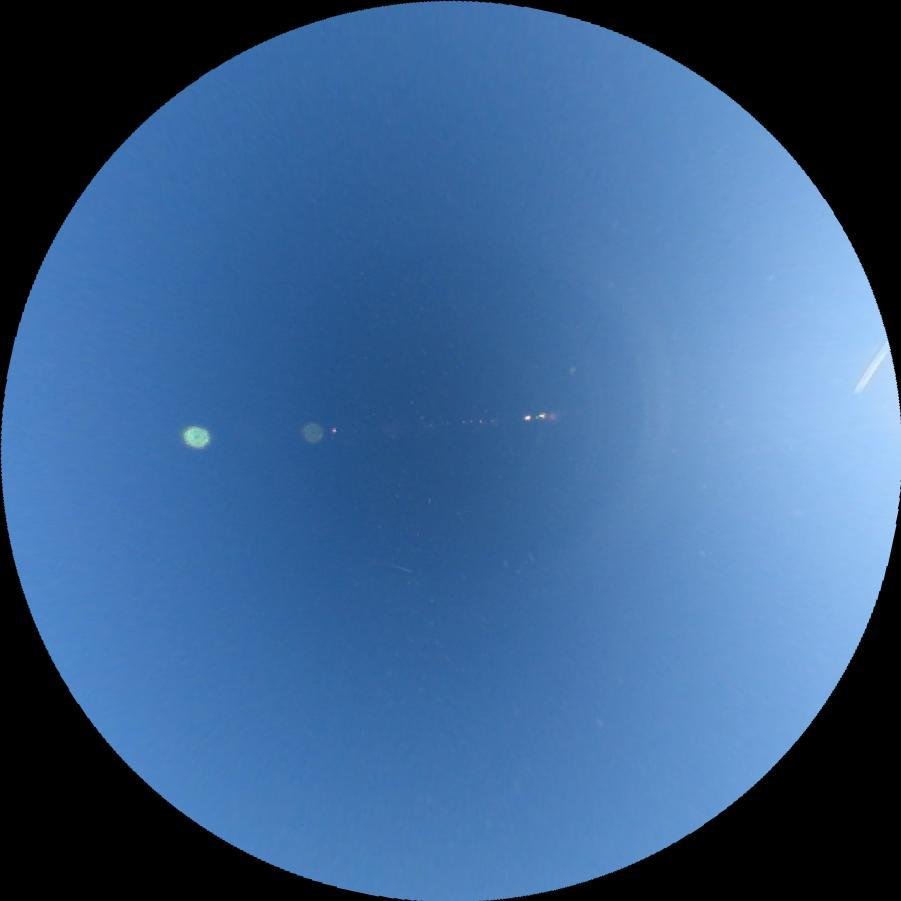contrail young: (850, 339, 894, 401), (376, 557, 412, 572)
